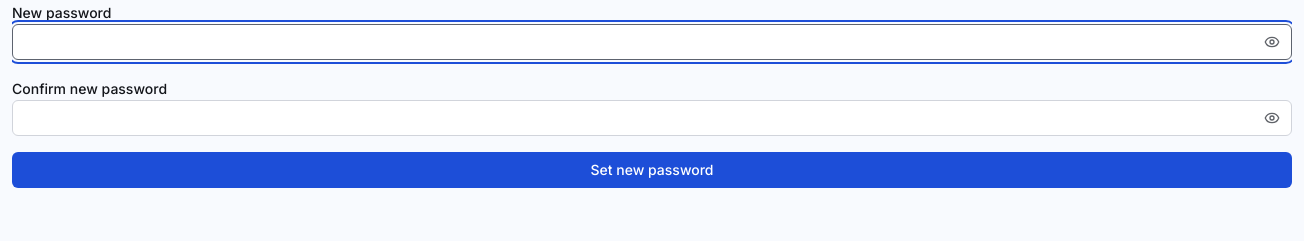
Test case: ChangePasswordForm › shows an error message on failure
The image size is (1304, 241).
Type "0123456789" into the password field labelled "New password" at (652, 42), box [12, 24, 1292, 60]
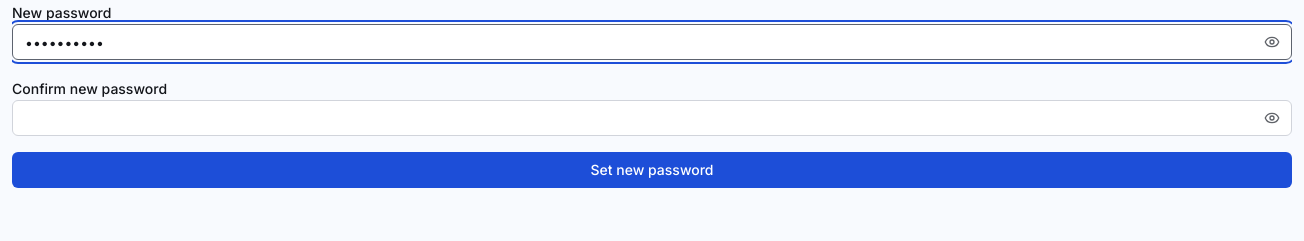
Type "0123456789" into the password field labelled "Confirm new password" at (652, 118), box [12, 100, 1292, 136]
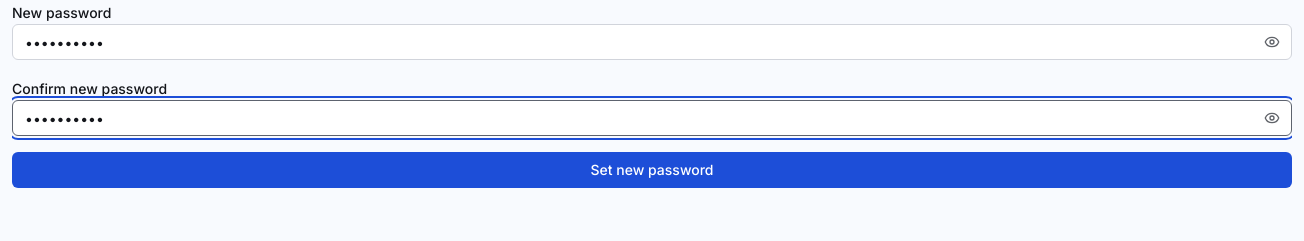
Click the button "Set new password" at (652, 170), box [12, 152, 1292, 188]
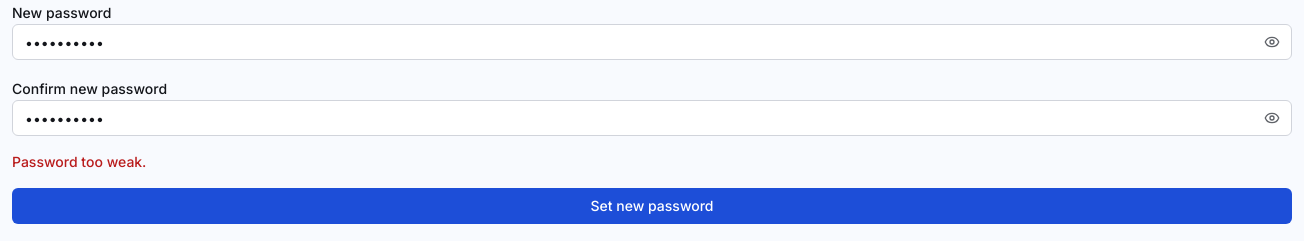
Now the message shows "Password too weak", box [12, 153, 146, 170]
